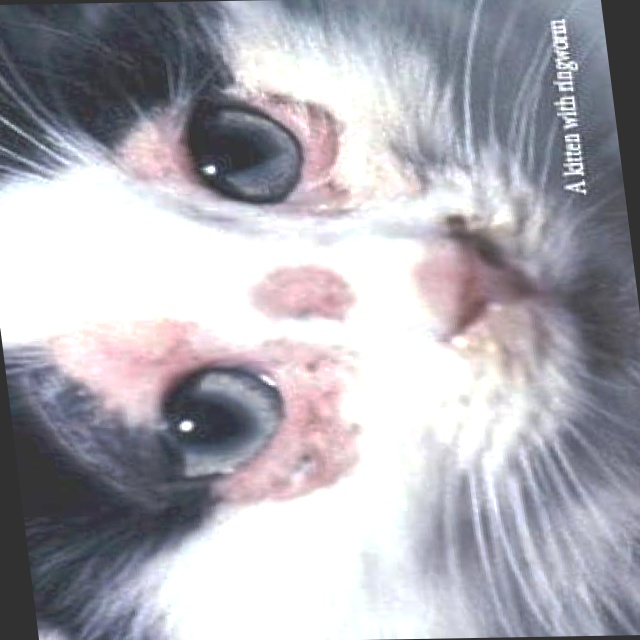ringworm: (214, 354, 374, 508), (276, 103, 350, 199), (250, 265, 358, 309)
